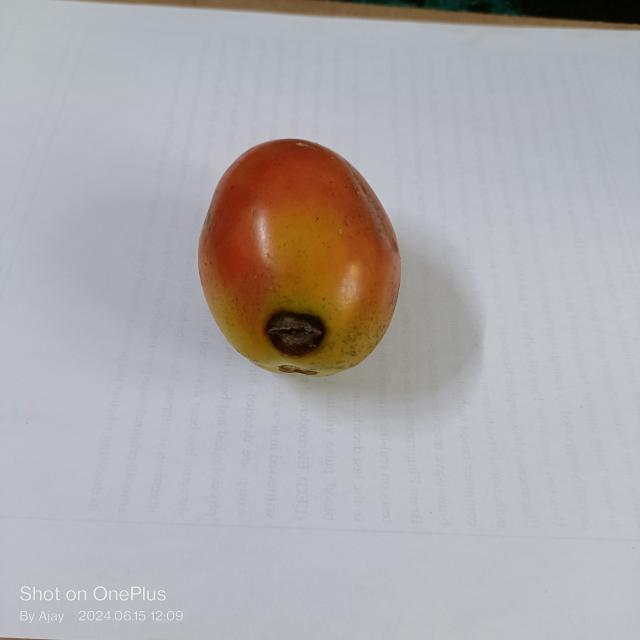Anthrocnose: (259, 309, 332, 353)
